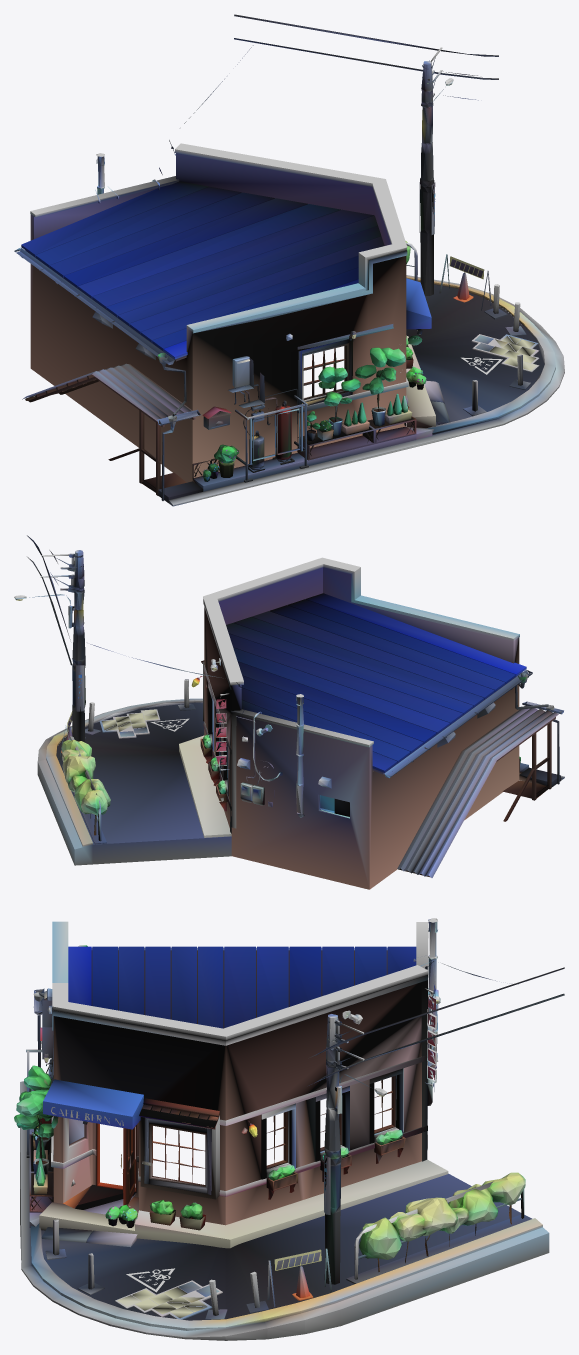
The model's file is cafe.glb.
3 views of the same model, one above another, from view 1: azimuth 30°, elevation 25°; view 2: azimuth 150°, elevation 25°; view 3: azimuth 270°, elevation 25° (orthographic). The views are drawn at different scales.
Visible parts, largest first — view 1: Outside_Outside_0; view 2: Outside_Outside_0; view 3: Outside_Outside_0.
Part boxes in pixels (left/top/right/bottom): Outside_Outside_0: left=14, top=14, right=564, bottom=506; Outside_Outside_0: left=14, top=535, right=564, bottom=889; Outside_Outside_0: left=14, top=918, right=564, bottom=1340.
Bounding box in the file's own units: 11698 × 6022 × 10468.
